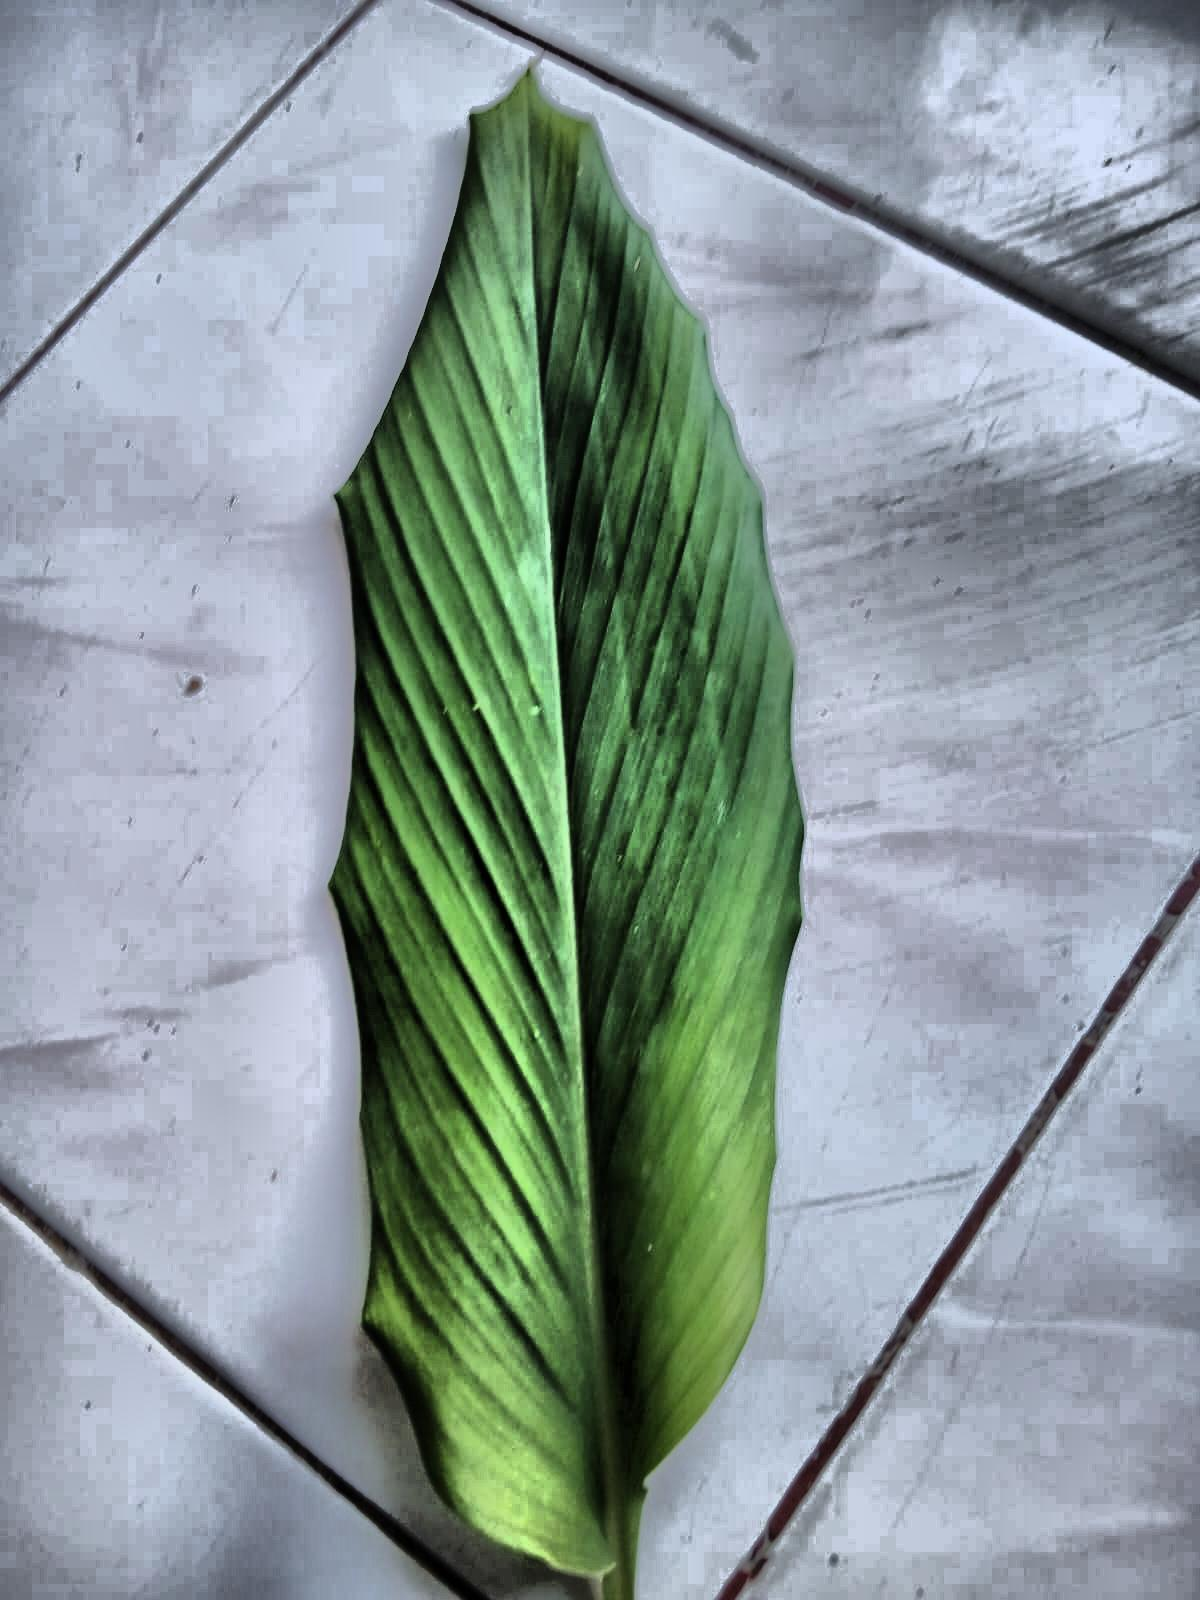daun kunyit: (330, 72, 803, 1599)
